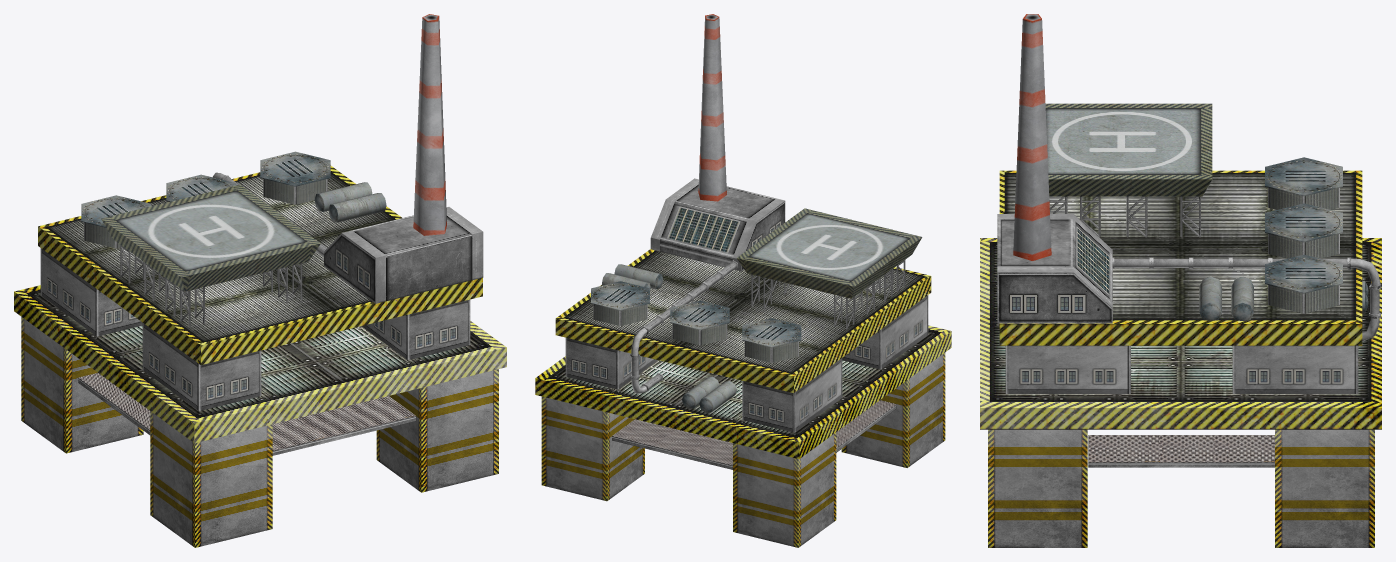
3 renders of one model, left to right at view 1: azimuth 30°, elevation 25°; view 2: azimuth 150°, elevation 25°; view 3: azimuth 270°, elevation 25°, orthographic. The views are drawn at different scales.
Parts seen in each view (by area): view 1: base_09; view 2: base_09; view 3: base_09.
Boxes of the visible parts, box(x1,y1,x2,y2) form: base_09: box(14, 14, 506, 547); base_09: box(535, 14, 951, 547); base_09: box(980, 14, 1381, 547).
Bounding box in the file's own units: 74.56 × 103 × 74.59.
